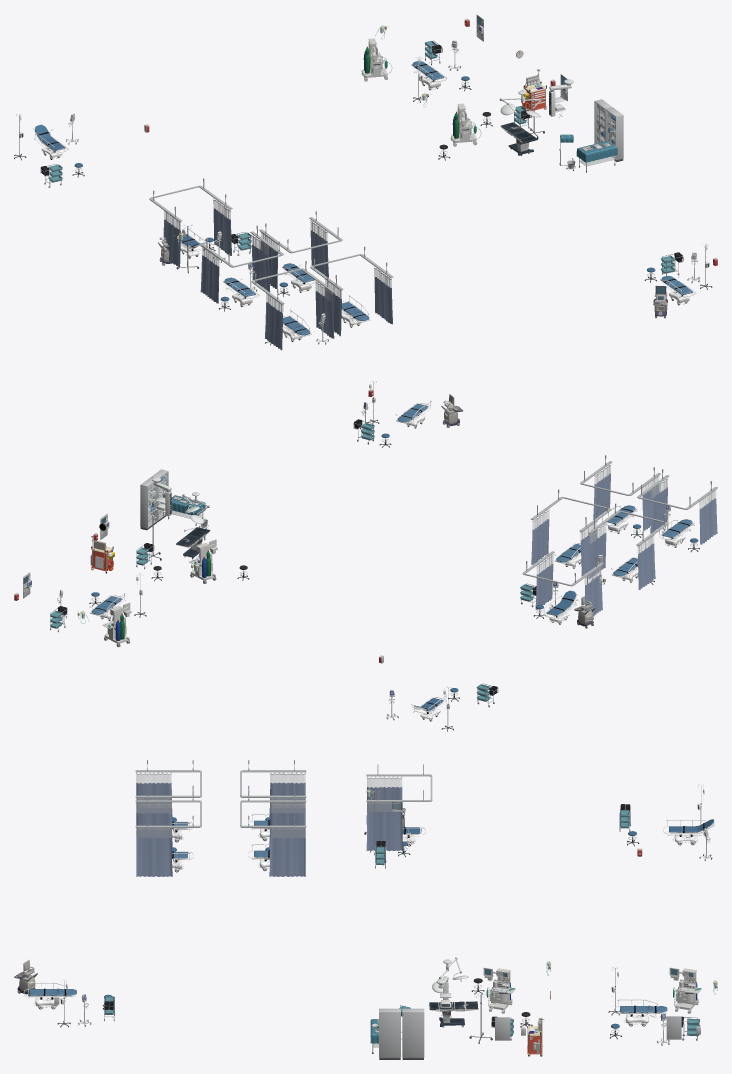
File: clinical.glb
3 renders of one model, top to bottom at view 1: azimuth 30°, elevation 25°; view 2: azimuth 150°, elevation 25°; view 3: azimuth 270°, elevation 25°, orthographic. The views are drawn at different scales.
Parts seen in each view (by area): view 1: curtain_bay_1.003, curtain_bay_1.001, curtain_bay_1, curtain_bay_1.004, curtain_bay_1.002, op_table_0, anesthesia_machine_3.001, anesthesia_machine_3, drape; view 2: curtain_bay_1.003, curtain_bay_1.001, curtain_bay_1, curtain_bay_1.002, curtain_bay_1.004, anesthesia_machine_3.001, anesthesia_machine_3; view 3: curtain_bay_1.002, curtain_bay_1.004, curtain_bay_1, curtain_bay_1.003, curtain_bay_1.001, carcass.009, carcass.004, anesthesia_machine_3.001, anesthesia_machine_3, op_table_0, curtain_bay_0.002, curtain_bay_0.004 (+2 smaller).
Boxes of the visible parts, left/top/right/bottom form: curtain_bay_1.003: left=264, top=282, right=334, bottom=350; curtain_bay_1.001: left=200, top=235, right=270, bottom=303; curtain_bay_1: left=163, top=199, right=231, bottom=268; curtain_bay_1.004: left=324, top=267, right=392, bottom=336; curtain_bay_1.002: left=260, top=220, right=328, bottom=288; op_table_0: left=500, top=122, right=537, bottom=155; anesthesia_machine_3.001: left=361, top=38, right=388, bottom=81; anesthesia_machine_3: left=450, top=103, right=477, bottom=146; drape: left=576, top=140, right=617, bottom=162; curtain_bay_1.003: left=650, top=479, right=717, bottom=544; curtain_bay_1.001: left=588, top=524, right=655, bottom=589; curtain_bay_1: left=535, top=555, right=602, bottom=616; curtain_bay_1.002: left=531, top=510, right=597, bottom=576; curtain_bay_1.004: left=593, top=465, right=659, bottom=530; anesthesia_machine_3.001: left=102, top=602, right=131, bottom=647; anesthesia_machine_3: left=188, top=539, right=217, bottom=583; curtain_bay_1.002: left=269, top=803, right=305, bottom=876; curtain_bay_1.004: left=136, top=803, right=172, bottom=876; curtain_bay_1: left=366, top=777, right=403, bottom=851; curtain_bay_1.003: left=136, top=773, right=172, bottom=844; curtain_bay_1.001: left=269, top=773, right=305, bottom=843; carcass.009: left=402, top=1012, right=424, bottom=1057; carcass.004: left=379, top=1012, right=400, bottom=1057; anesthesia_machine_3.001: left=669, top=967, right=701, bottom=1013; anesthesia_machine_3: left=483, top=967, right=515, bottom=1013; op_table_0: left=429, top=1001, right=478, bottom=1027; curtain_bay_0.002: left=240, top=790, right=306, bottom=828; curtain_bay_0.004: left=135, top=790, right=201, bottom=828.
Bounding box in the file's own units: 22.84 × 3 × 28.74.
106 materials, 15 textured.
